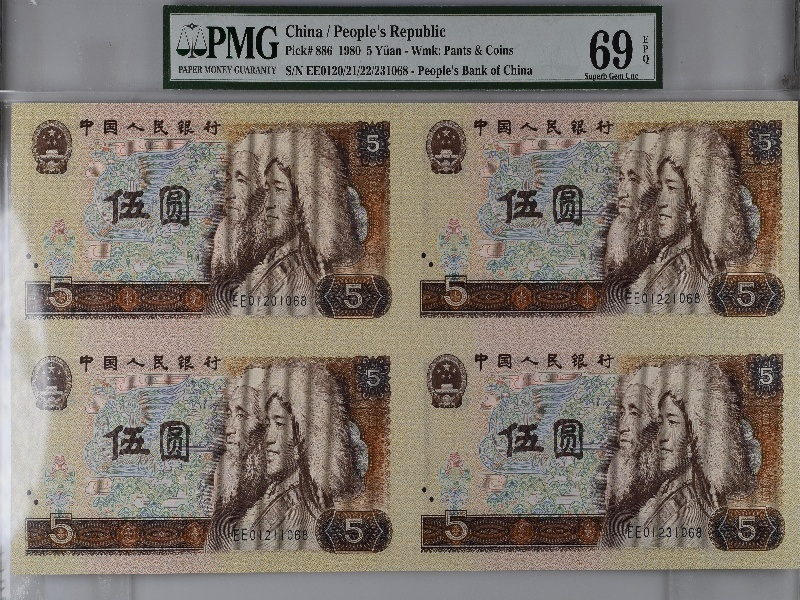papernote: (11, 98, 799, 569)
